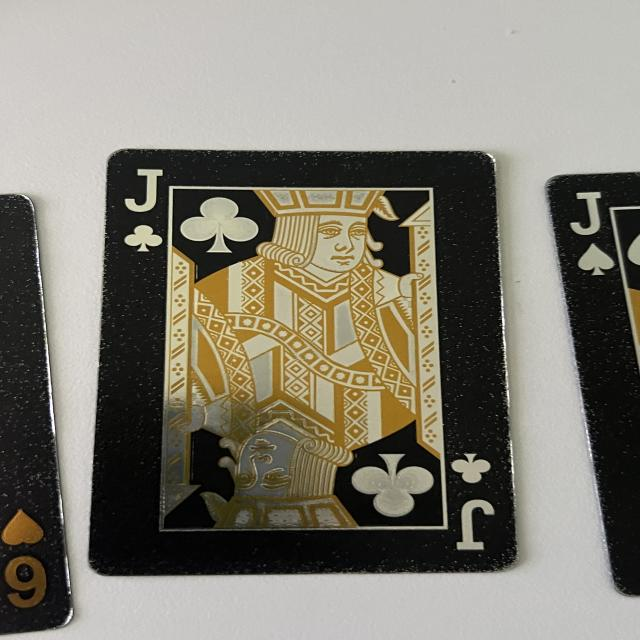6H: (0, 501, 54, 623)
JC: (444, 446, 508, 556), (123, 159, 172, 260)
JS: (555, 179, 619, 285)
